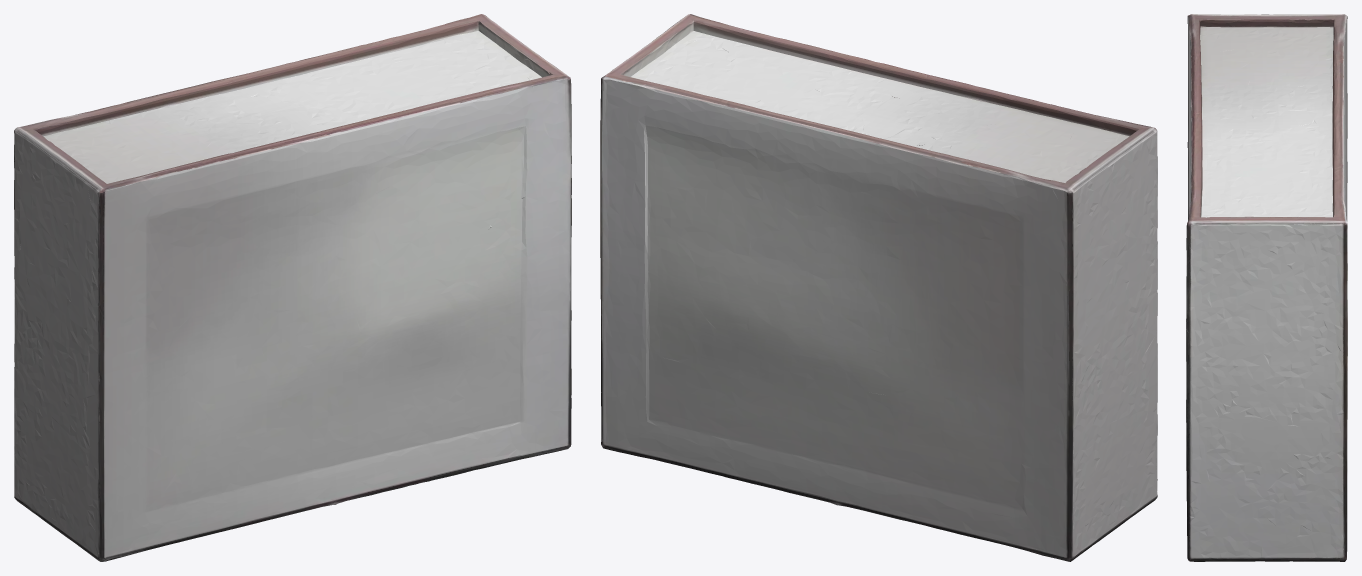
Rendered from ast_924f98656f6a.glb.
3 views of the same model, side by side, from view 1: azimuth 30°, elevation 25°; view 2: azimuth 150°, elevation 25°; view 3: azimuth 270°, elevation 25° (orthographic). The views are drawn at different scales.
Visible parts, largest first — view 1: geometry_0; view 2: geometry_0; view 3: geometry_0.
Boxes of the visible parts, x1,y1,x2,y2 form: geometry_0: (14,14,571,561); geometry_0: (600,14,1157,561); geometry_0: (1186,14,1347,561).
Bounding box in the file's own units: 1 × 0.7557 × 0.3254.
Materials: 1 (1 with a texture image).
